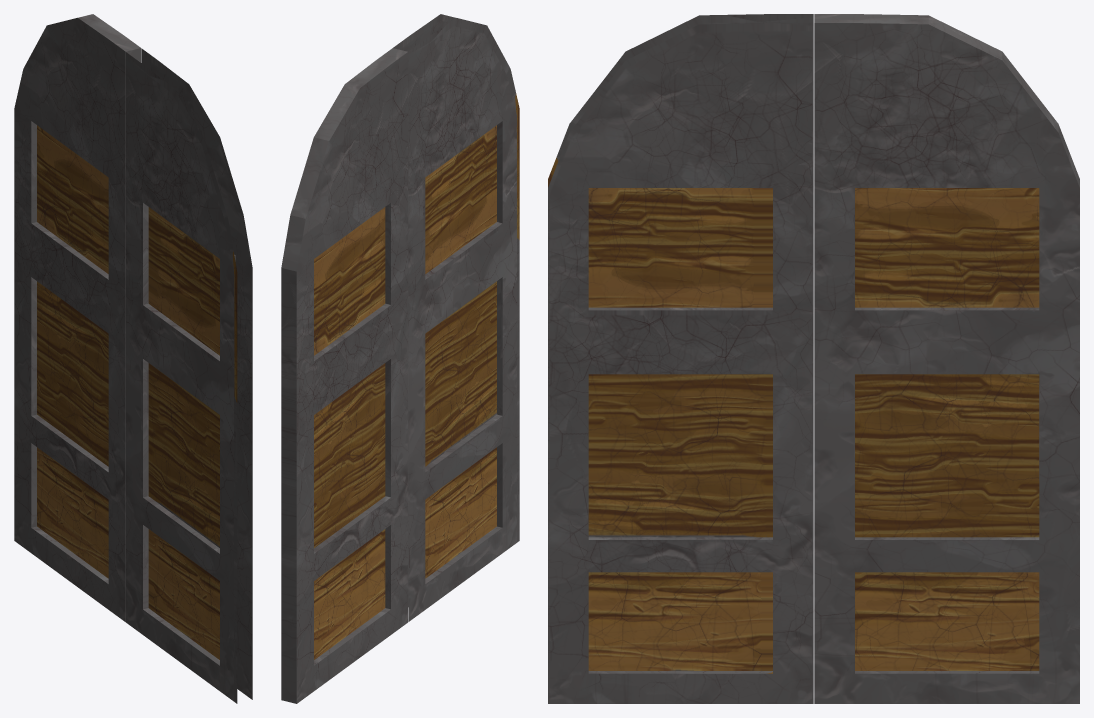
Rendered from Pintu.fbx.
3 renders of one model, left to right at view 1: azimuth 30°, elevation 25°; view 2: azimuth 150°, elevation 25°; view 3: azimuth 270°, elevation 25°, orthographic. The views are drawn at different scales.
Parts seen in each view (by area): view 1: Cube.022, Cube.007, Cube.014, Cube.021; view 2: Cube.007, Cube.022, Cube.021, Cube.014; view 3: Cube.022, Cube.007, Cube.021, Cube.014.
Part boxes in pixels (x1,y1,x2,y2): Cube.022: (126, 48, 252, 703); Cube.007: (14, 14, 140, 622); Cube.014: (37, 125, 108, 578); Cube.021: (148, 207, 219, 659); Cube.007: (281, 48, 407, 703); Cube.022: (393, 14, 519, 621); Cube.021: (425, 125, 496, 578); Cube.014: (314, 207, 385, 659); Cube.022: (548, 14, 813, 703); Cube.007: (814, 14, 1079, 703); Cube.021: (588, 188, 772, 670); Cube.014: (855, 188, 1039, 670).
Bounding box in the file's own units: 55.63 × 1961 × 1388.
